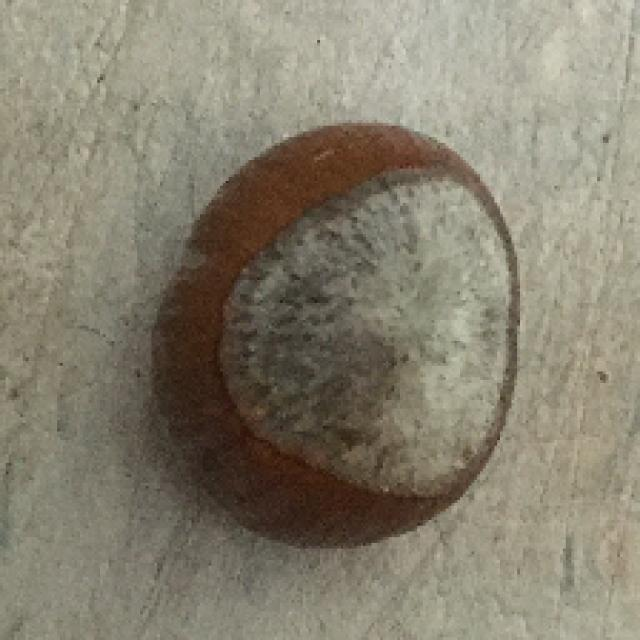qualityHazelnut: (136, 123, 524, 552)
